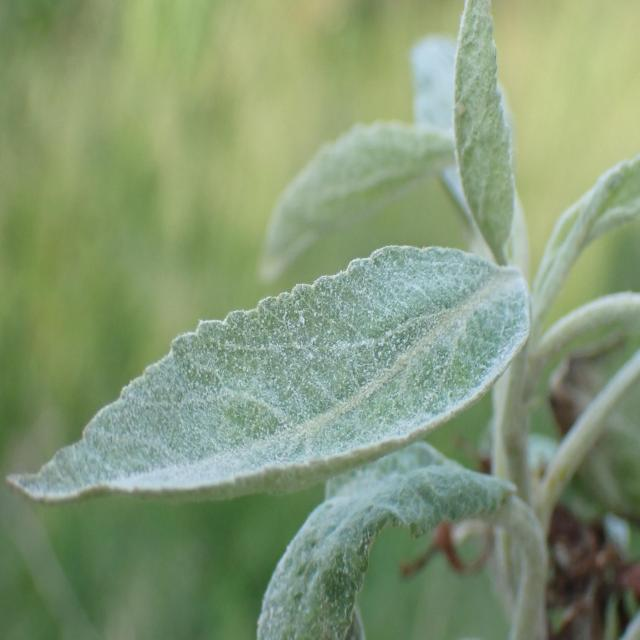Powdery_mildew: (8, 218, 532, 509), (186, 472, 530, 640), (263, 115, 456, 263), (456, 0, 528, 262), (540, 145, 640, 332)
